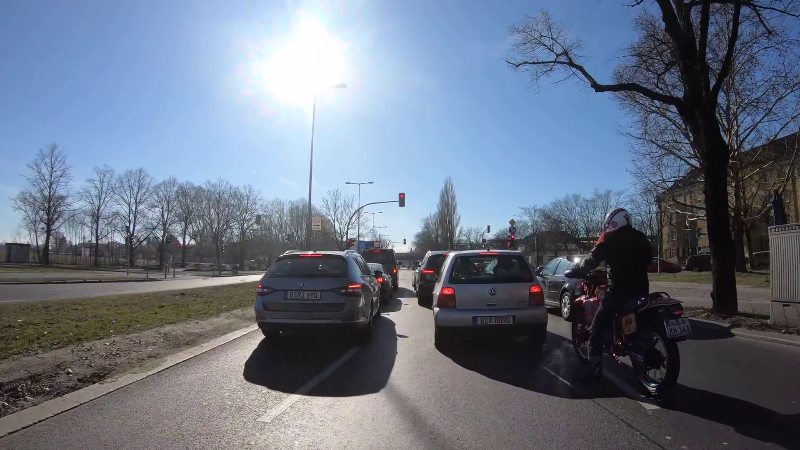Plate: (283, 288, 321, 301), (474, 315, 514, 325)
